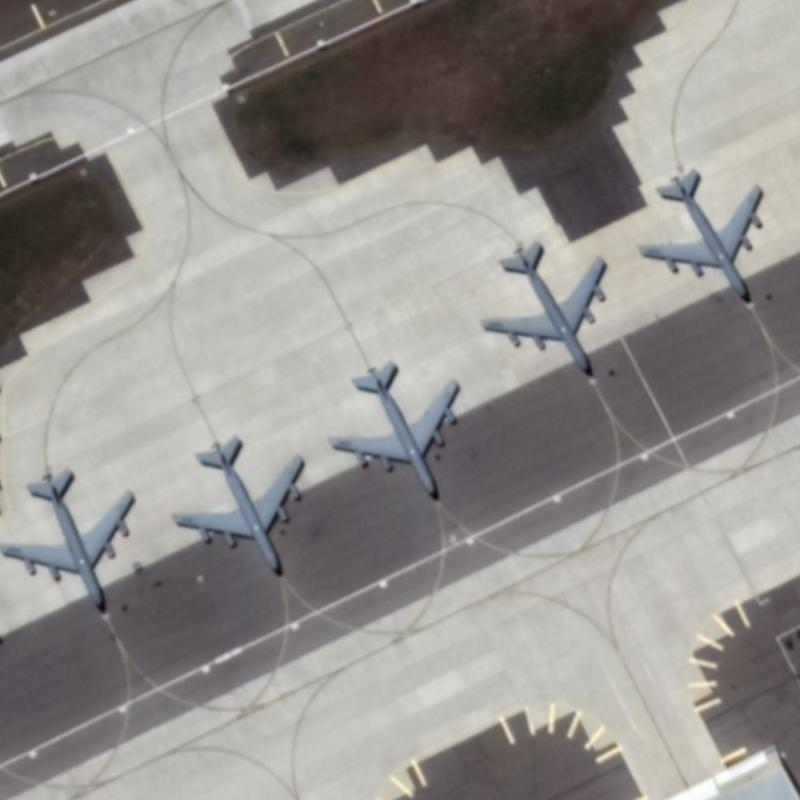A14: (326, 354, 470, 507), (170, 434, 318, 582), (0, 463, 137, 620), (480, 233, 622, 382), (632, 165, 776, 309)
